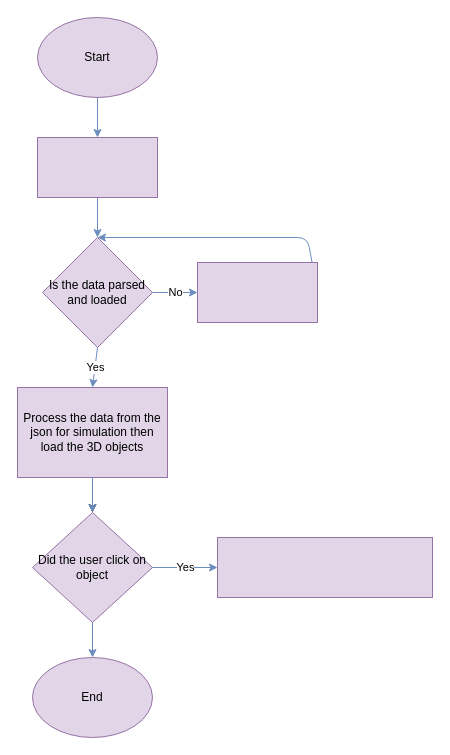
The diagram is 450 pixels wide and 755 high, and some of its shapes have lost their labels. Each missing label, with the centre of its shape:
"Highlight the object and show some astronomical information about it" goes at [324,567].
"Parse and load the data from json" goes at [257,292].
"User load page" goes at [97,167].
